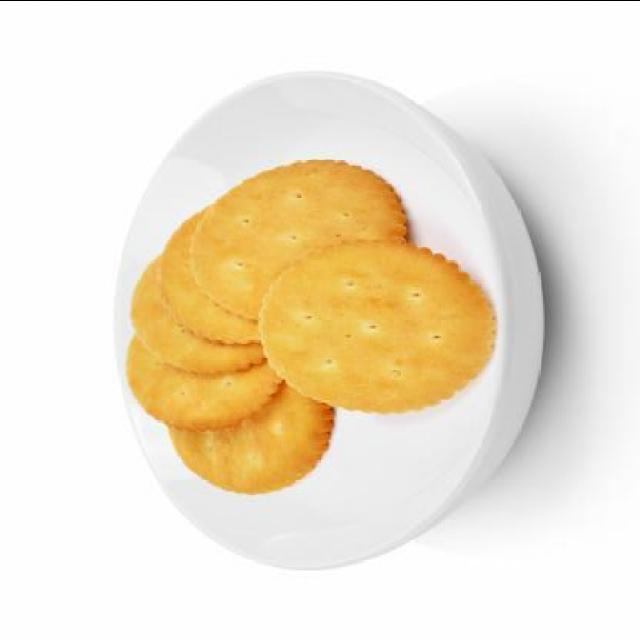Ritz cracker packaged: (105, 151, 493, 489)
